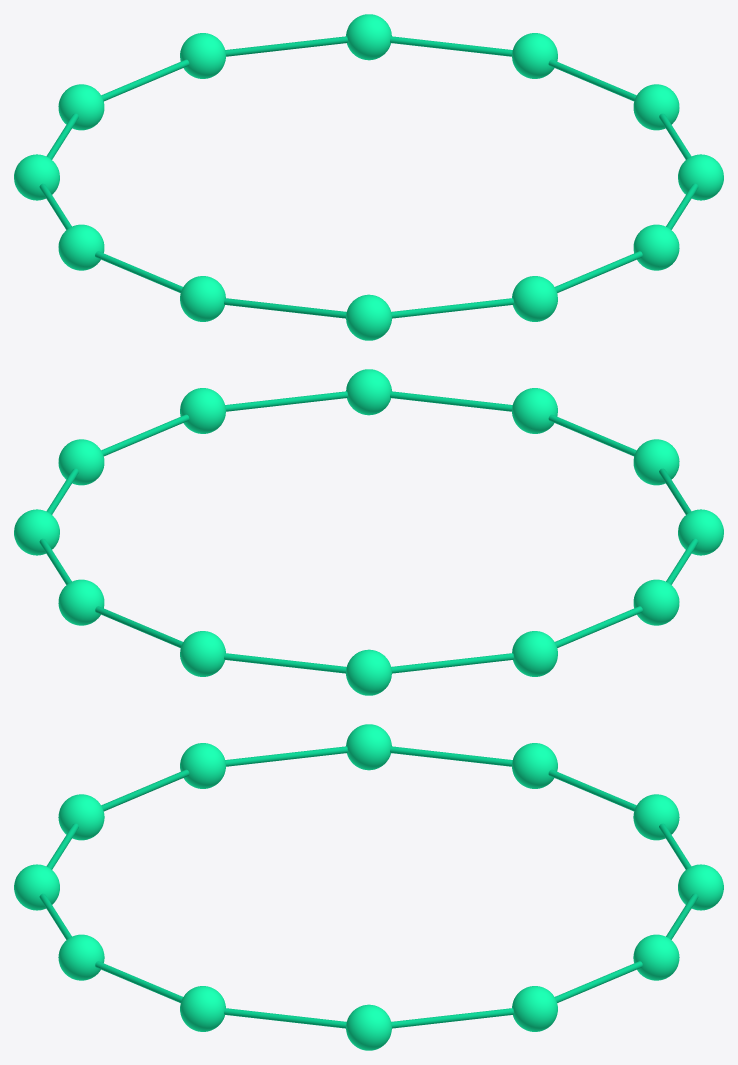
File: animated-map.glb
3 renders of one model, top to bottom at view 1: azimuth 30°, elevation 25°; view 2: azimuth 150°, elevation 25°; view 3: azimuth 270°, elevation 25°, orthographic.
Size of the model in its own units: 30.8 by 2 by 30.8.
